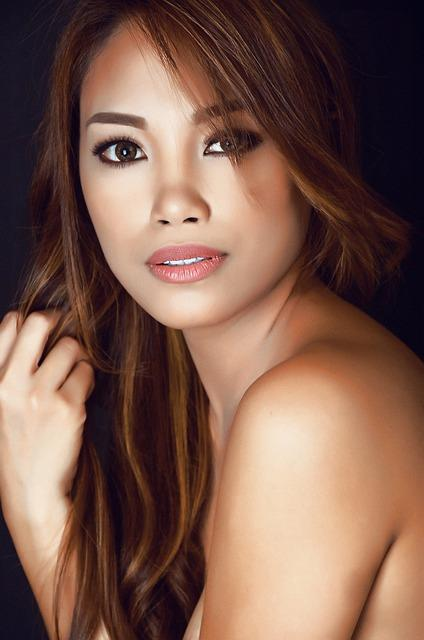Non_Gorille: (2, 0, 424, 640)
